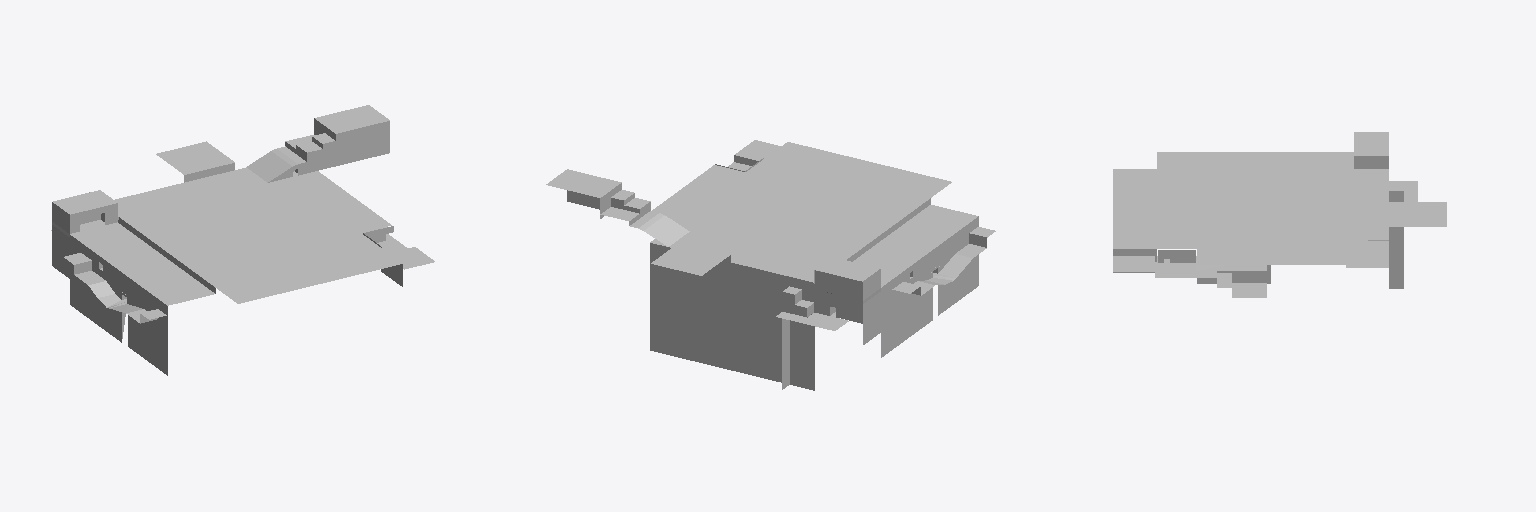
Rendered from second_island_collider.mtl.obj.
3 renders of one model, left to right at view 1: azimuth 30°, elevation 25°; view 2: azimuth 150°, elevation 25°; view 3: azimuth 270°, elevation 25°, orthographic.
Visible parts, largest first — view 1: Plane; view 2: Plane; view 3: Plane.
Boxes of the visible parts, x1,y1,x2,y2 form: Plane: [51, 105, 434, 375]; Plane: [546, 140, 995, 390]; Plane: [1113, 132, 1446, 297].
Size of the model in its own units: 822 by 329 by 709.